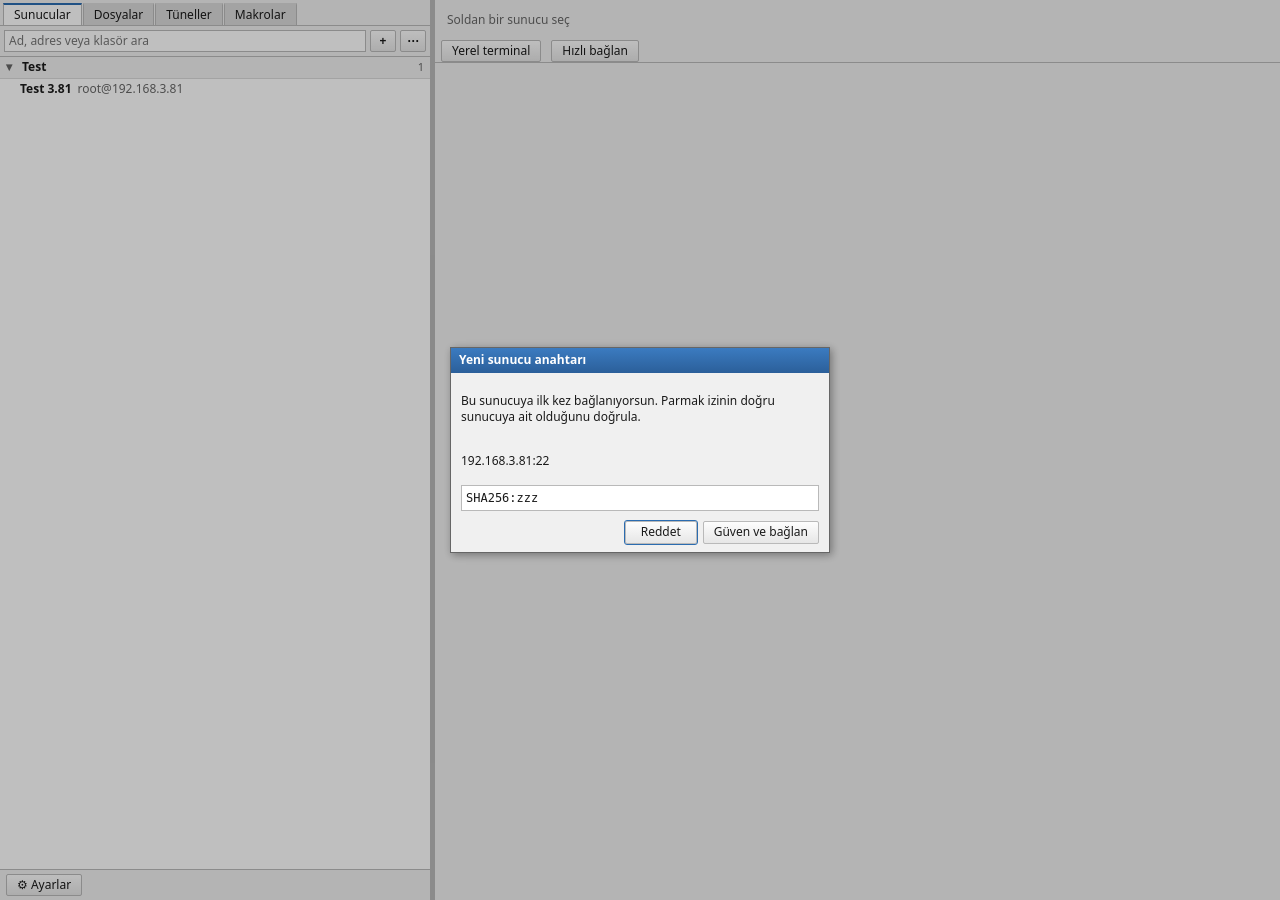
Test: a host key prompt shows the dialog and the answer goes back to the backend
Expected: the text "Test 3.81" is shown, left=20, top=81, right=72, bottom=97
Expected: the text "SHA256:zzz" is shown, left=461, top=485, right=819, bottom=511
Click the button "Güven ve bağlan" at (761, 532), box left=703, top=521, right=819, bottom=544
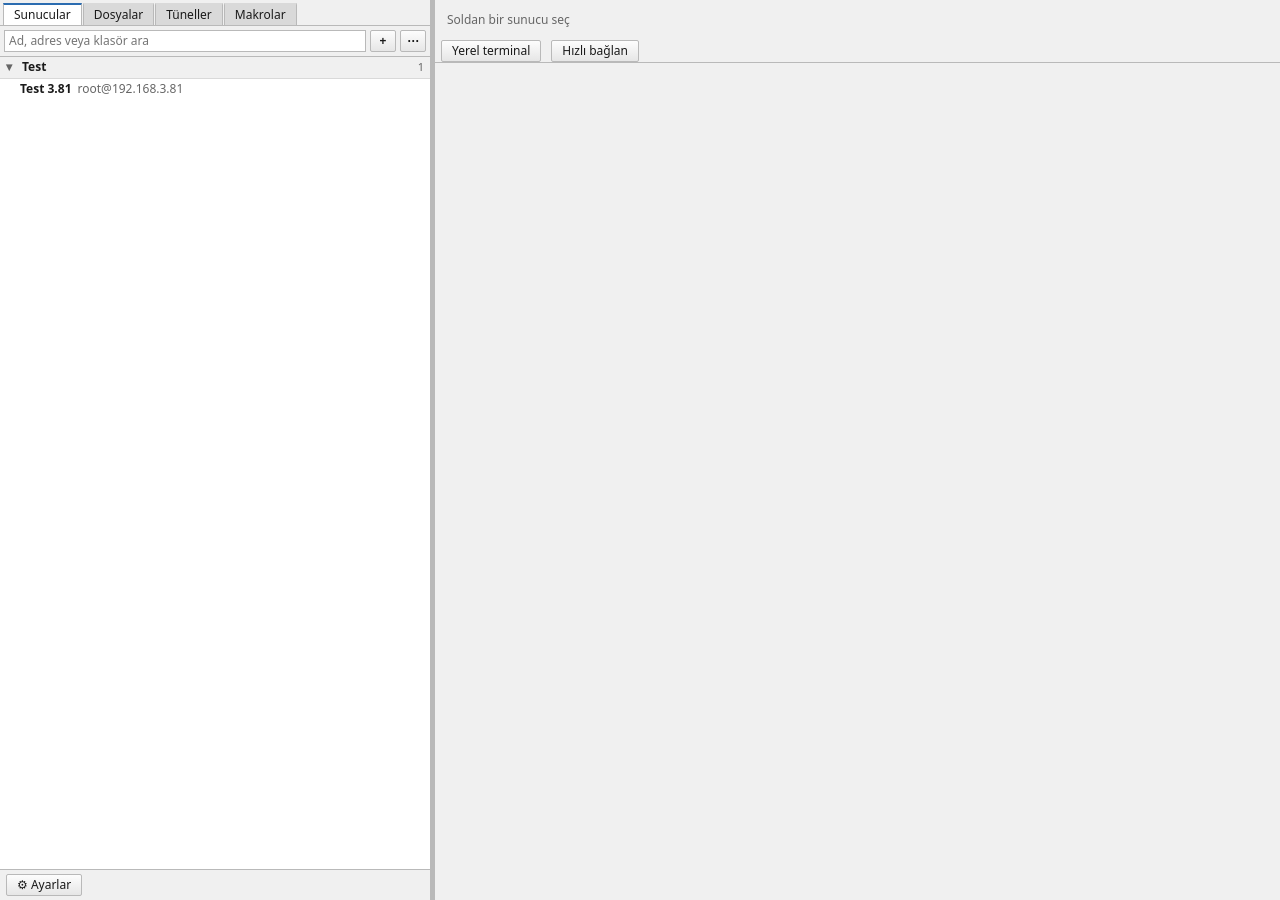
Expected: the text "SHA256:zzz" is gone
